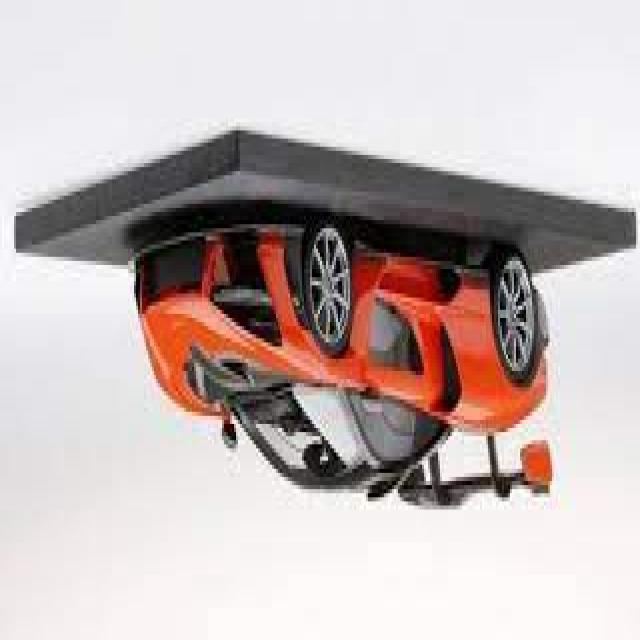Car: (128, 212, 554, 514)
